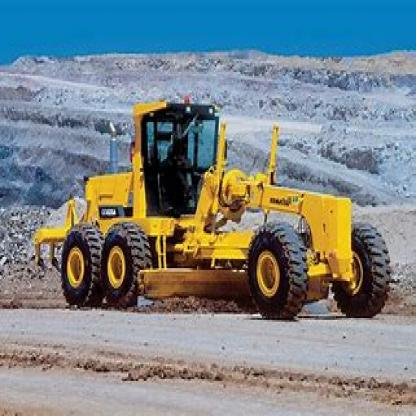bull_dozer/loader/grader: (36, 92, 389, 333)
